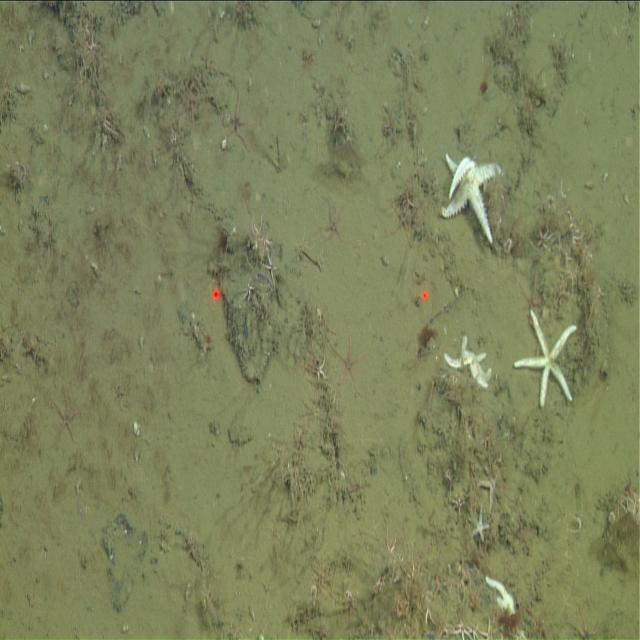Brittle Star: (46, 385, 87, 452)
